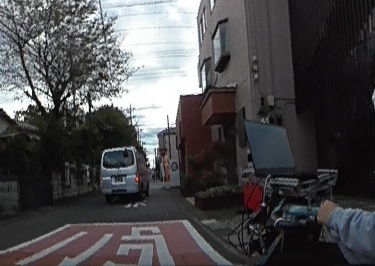person: (284, 28, 375, 266)
